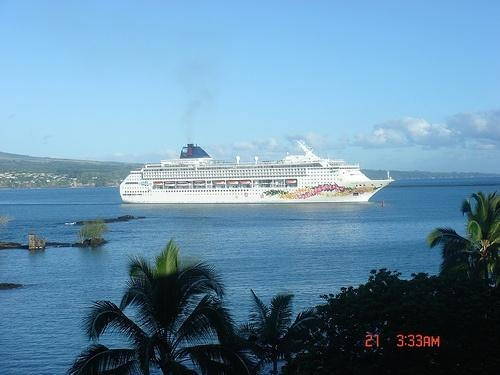boat: (122, 138, 401, 206)
